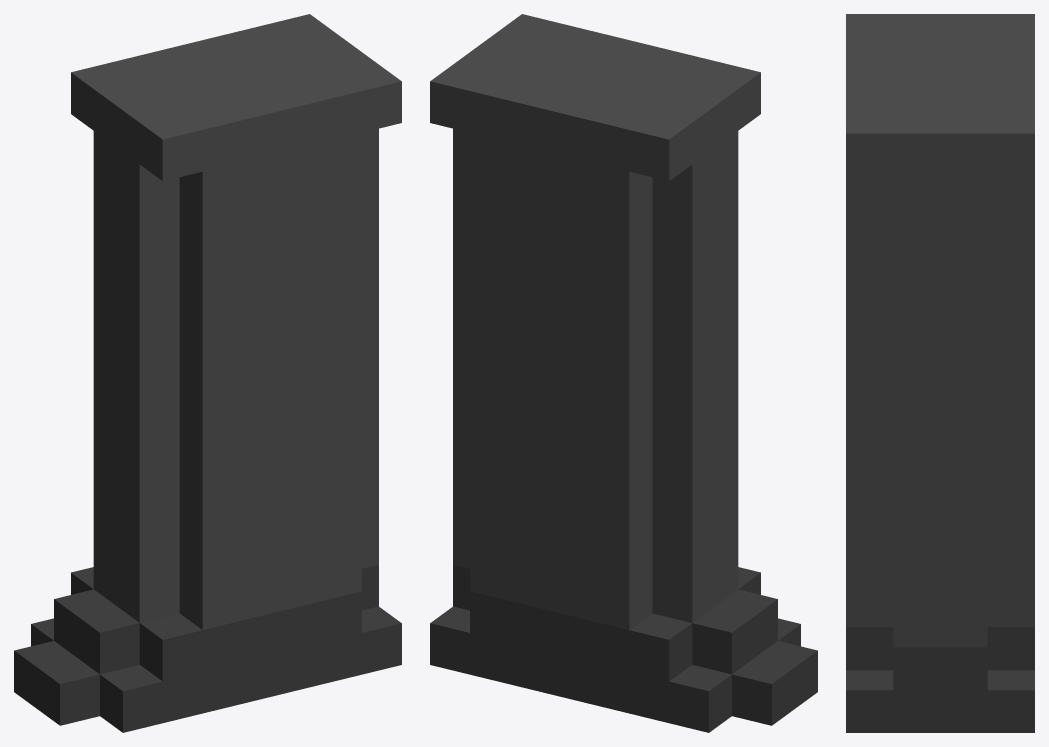
The model's file is Knight1Leg.obj.
The picture shows the model from 3 angles, left to right: view 1: azimuth 30°, elevation 25°; view 2: azimuth 150°, elevation 25°; view 3: azimuth 270°, elevation 25°; orthographic projection. The views are drawn at different scales.
Bounding box in the file's own units: 8 × 14 × 4.
Materials: 1 (1 with a texture image).
